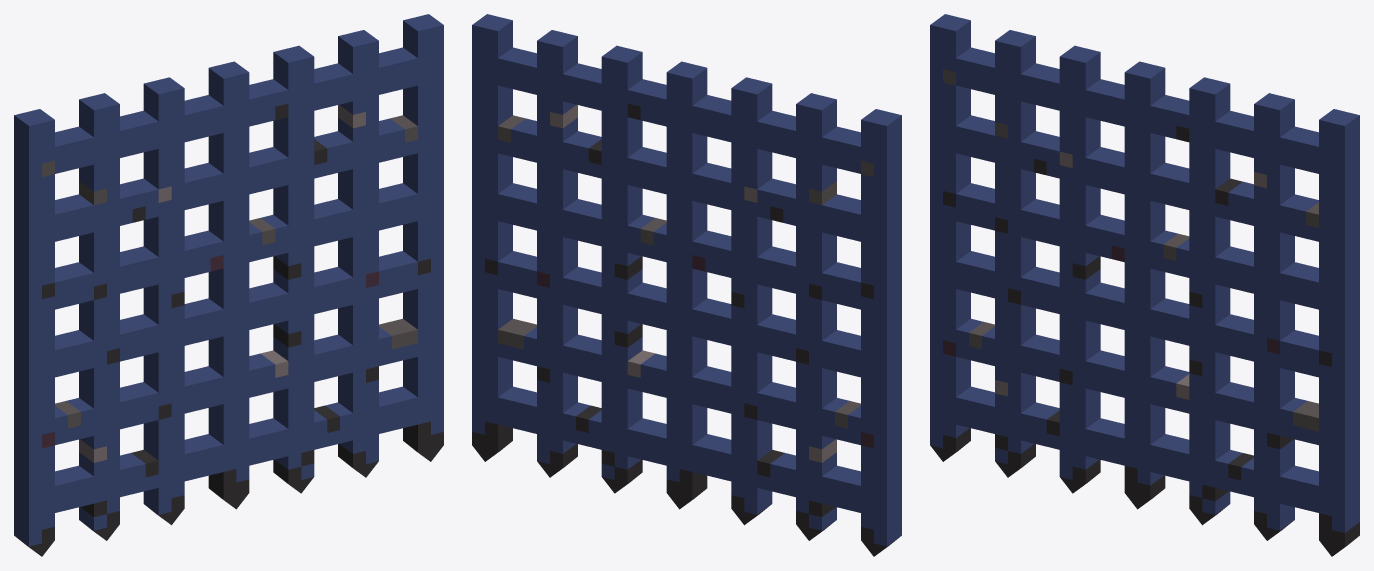
The model's file is door-port.glb.
The picture shows the model from 3 angles, left to right: view 1: azimuth 30°, elevation 25°; view 2: azimuth 150°, elevation 25°; view 3: azimuth 330°, elevation 25°; orthographic projection.
Visible parts, largest first — view 1: generated(Clone); view 2: generated(Clone); view 3: generated(Clone).
Boxes of the visible parts, box(x1,y1,x2,y2) form: generated(Clone): box(14, 14, 443, 556); generated(Clone): box(472, 14, 901, 556); generated(Clone): box(930, 14, 1359, 556).
Bounding box in the file's own units: 32 × 32 × 2.
Materials: 1 (1 with a texture image).
